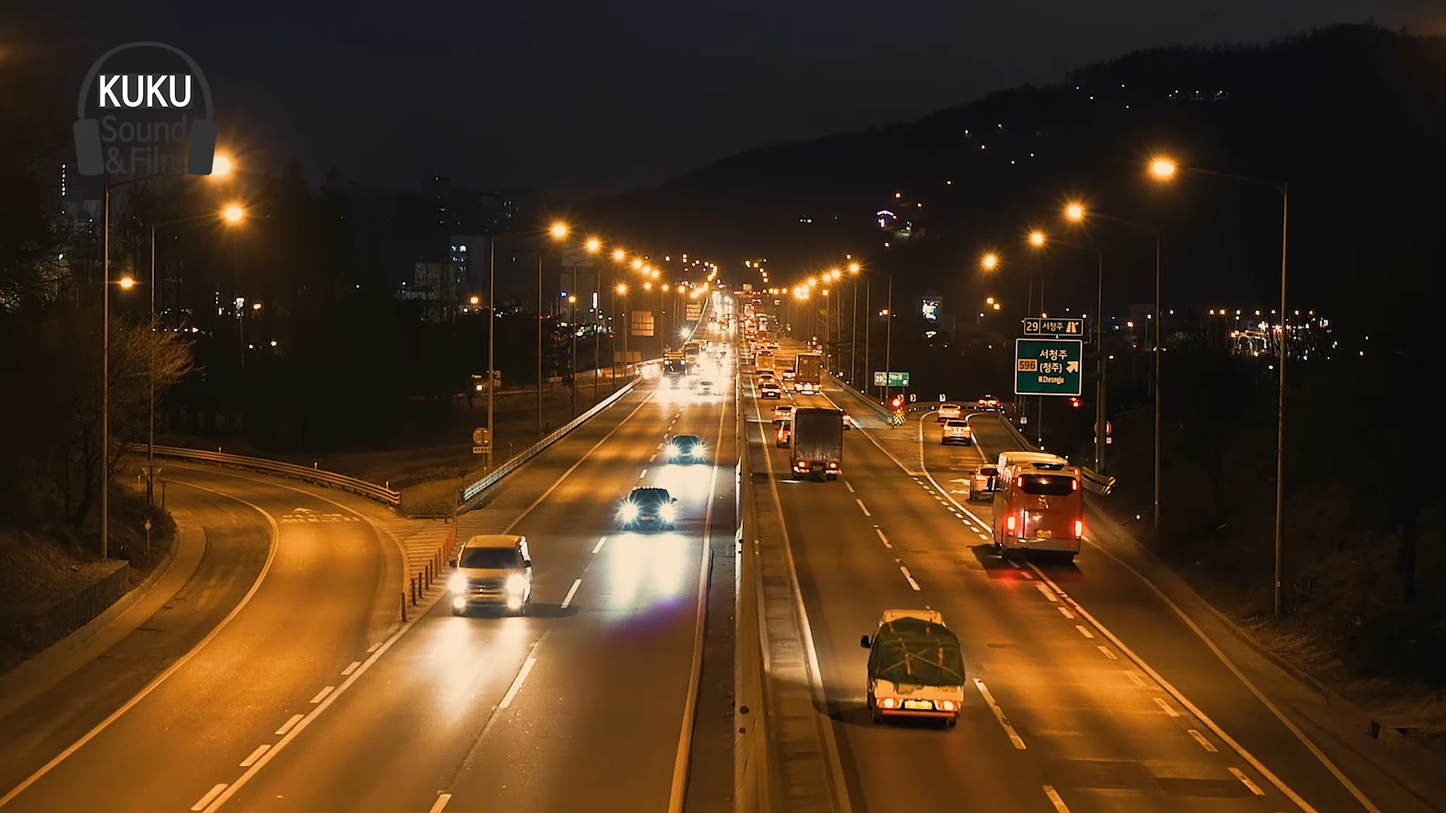car: (860, 604, 967, 732), (991, 452, 1086, 560), (447, 531, 533, 621), (622, 482, 675, 538)
truck: (789, 404, 852, 485)
